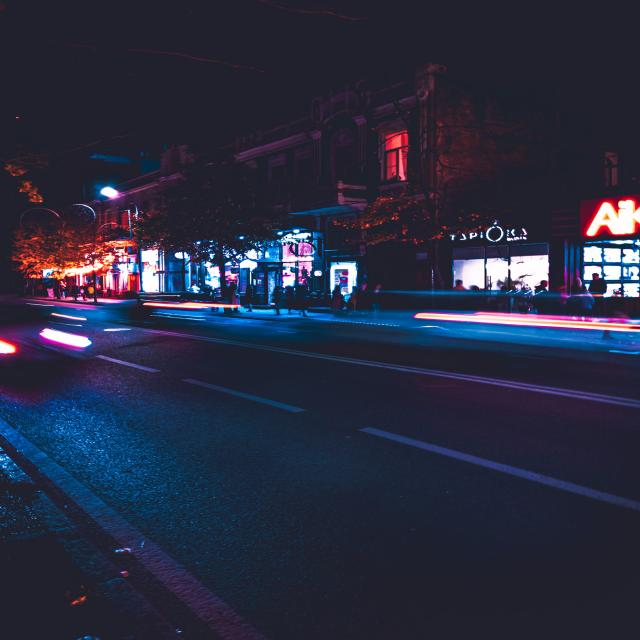light_signboard: (424, 217, 537, 246), (581, 198, 640, 237)
lighting: (138, 243, 235, 294), (455, 248, 554, 293), (585, 248, 640, 297), (276, 232, 316, 297), (55, 246, 120, 276), (333, 260, 360, 297)
streetlight: (91, 183, 136, 207)
